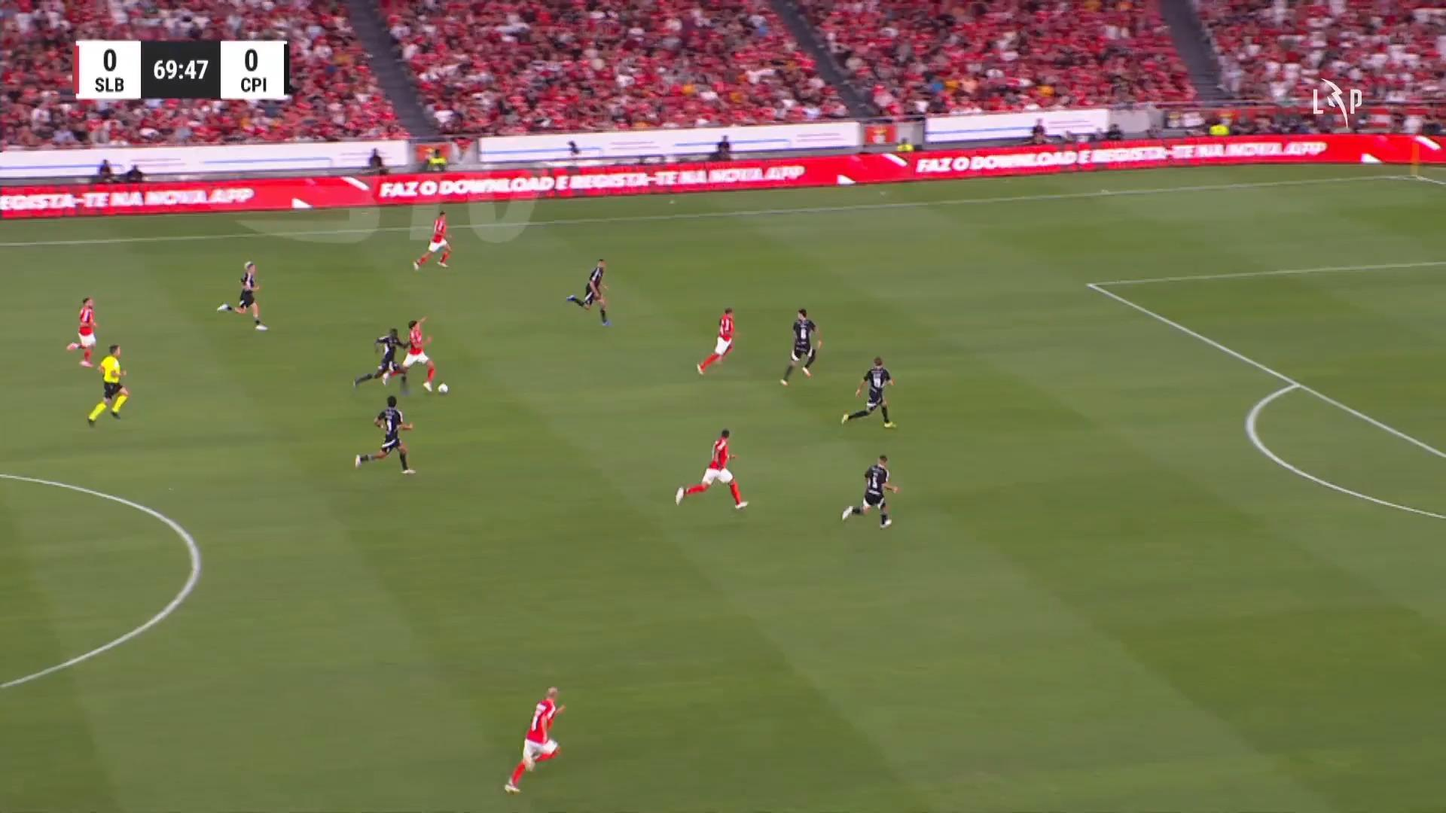ball: (437, 382, 447, 394)
player: (503, 686, 566, 793), (674, 428, 749, 510), (353, 394, 416, 474), (840, 453, 899, 528), (381, 315, 436, 394), (840, 355, 897, 428), (216, 260, 268, 330), (779, 307, 822, 386), (352, 327, 407, 388), (566, 257, 611, 327), (695, 306, 735, 375), (411, 209, 452, 270), (66, 296, 98, 367)
referee: (86, 343, 130, 427)
